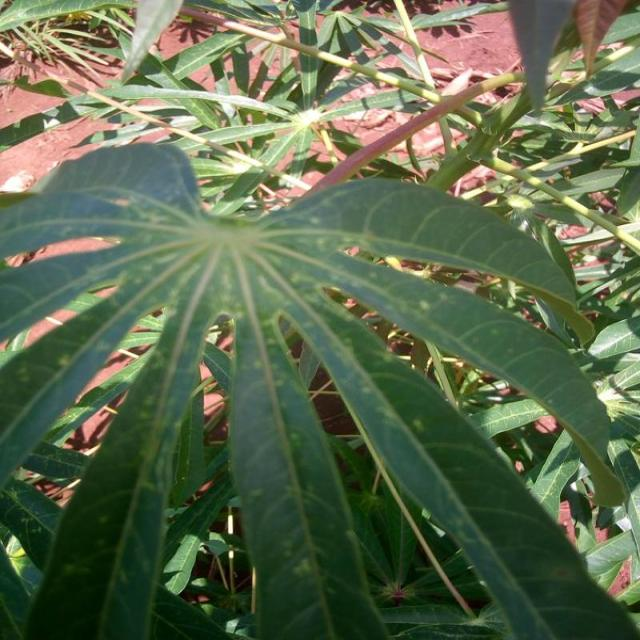cassava leaf: (1, 140, 636, 638)
